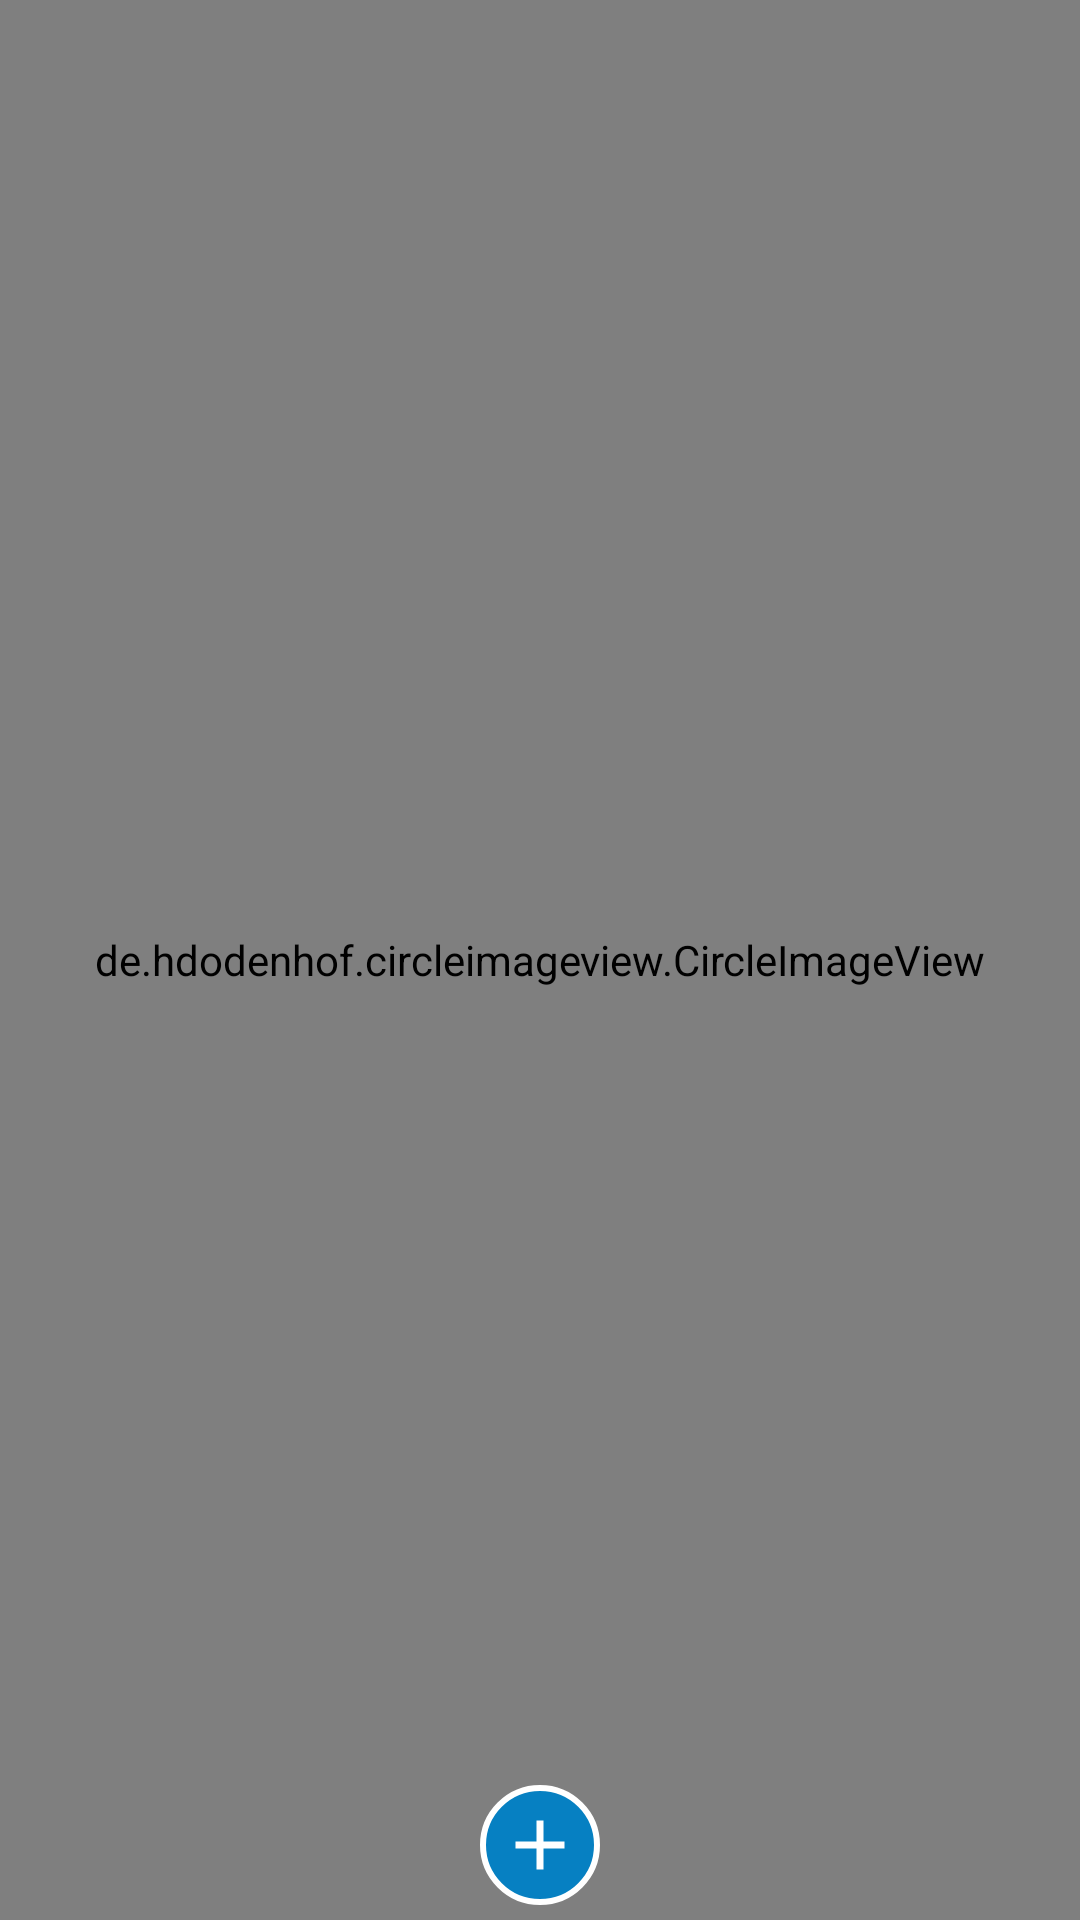

Icons on this 1080w x 1920h Android screen, each with its box as (x1, y1, x2, y2):
add: (480, 1785, 600, 1905)
